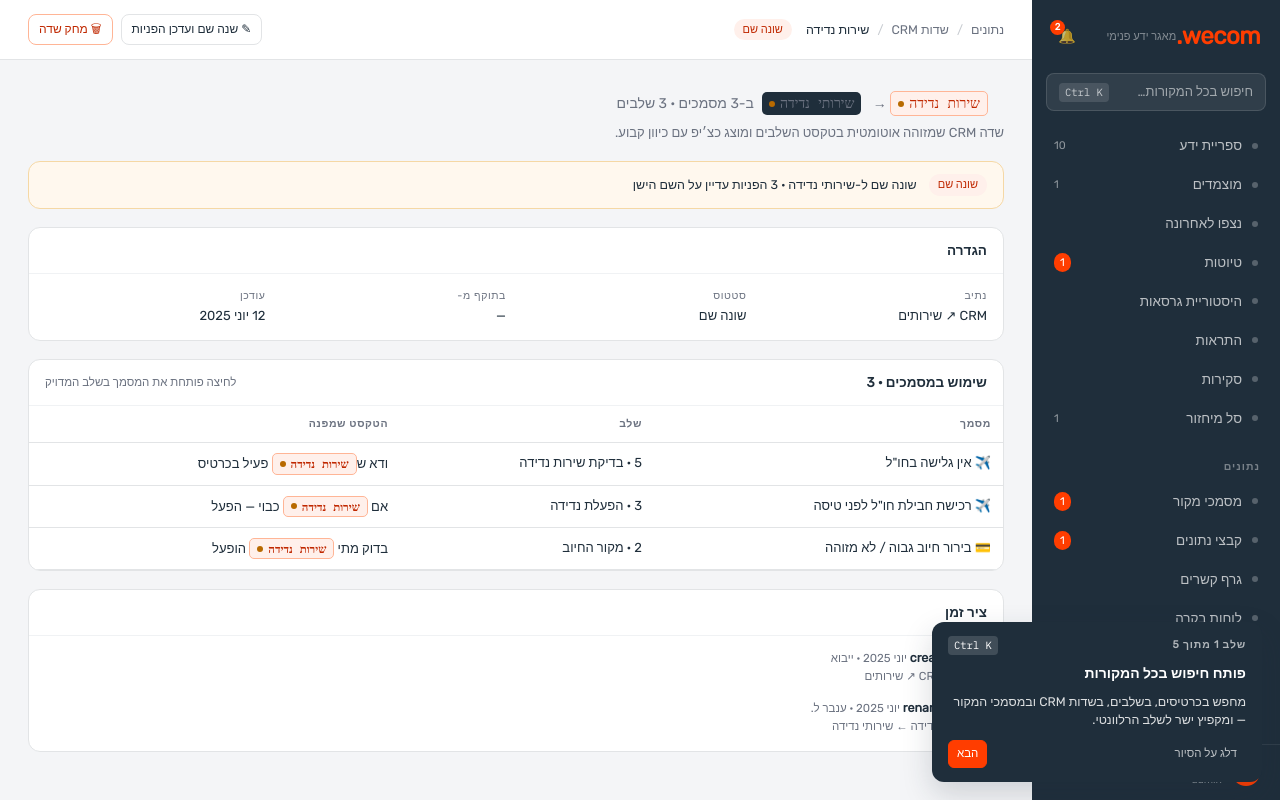
it: <FieldPage> › refuses a rename that does not actually change the name
Check: the table with test id "field-usage" is shown, box [29, 406, 1003, 570]
Click the button "✎ שנה שם ועדכן הפניות" at coordinates (191, 30), box [121, 14, 262, 45]
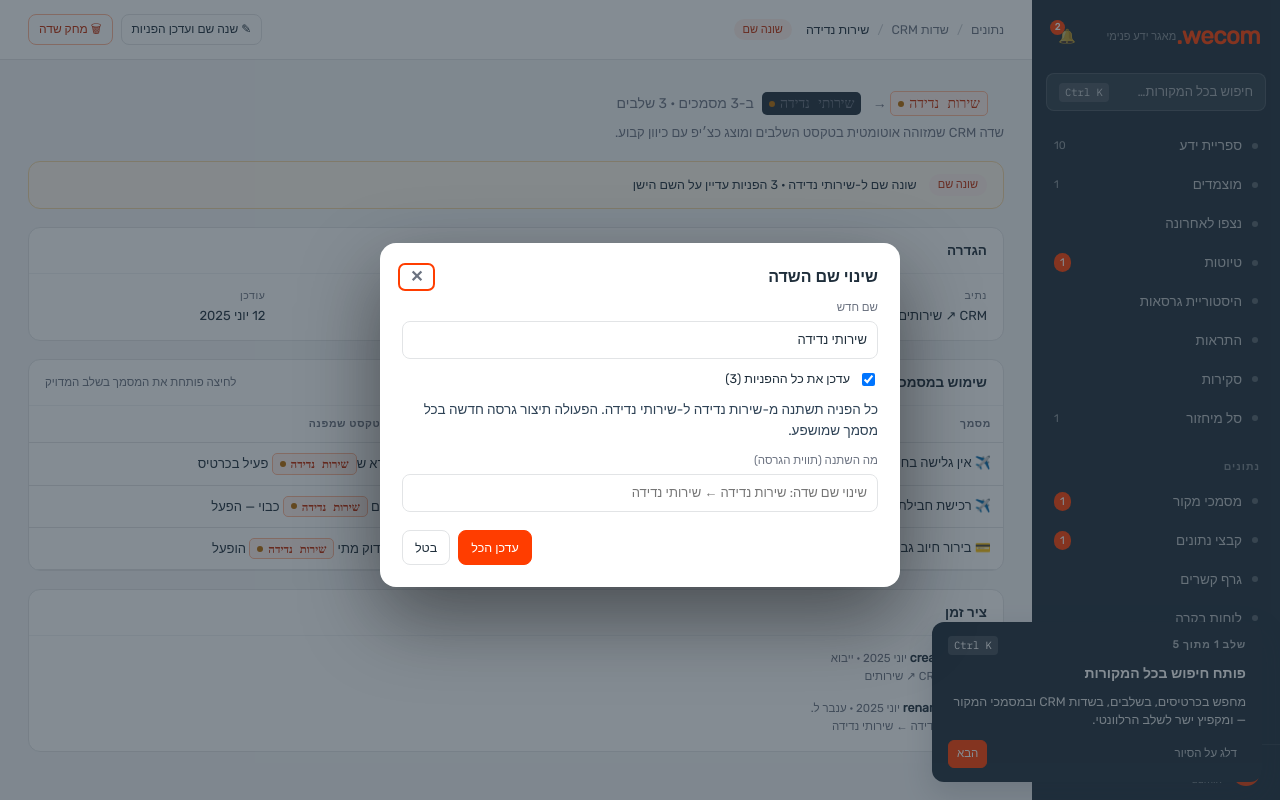
Replace the text in the field labelled "שם חדש" with "שירות נדידה" at coordinates (640, 340), box [402, 321, 878, 359]
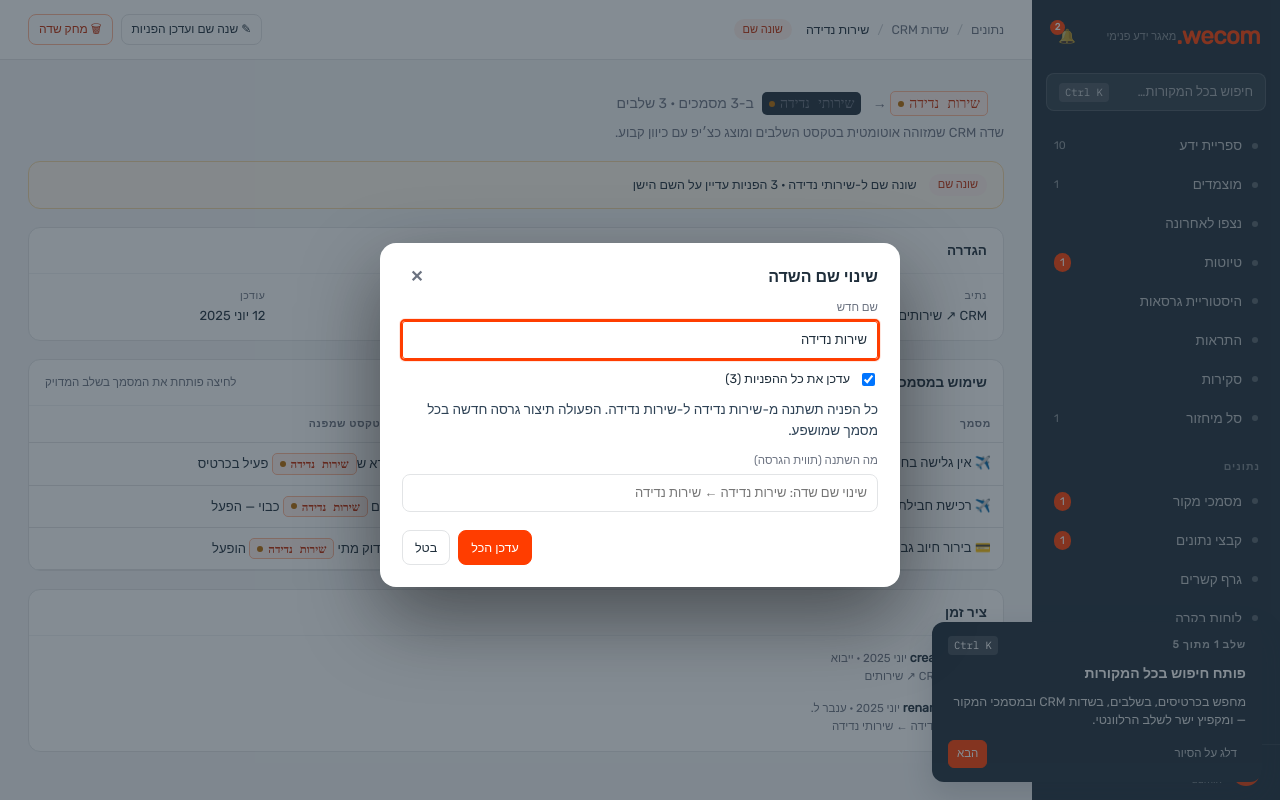
Click the button "עדכן הכל" at coordinates (495, 548), box [458, 530, 532, 565]
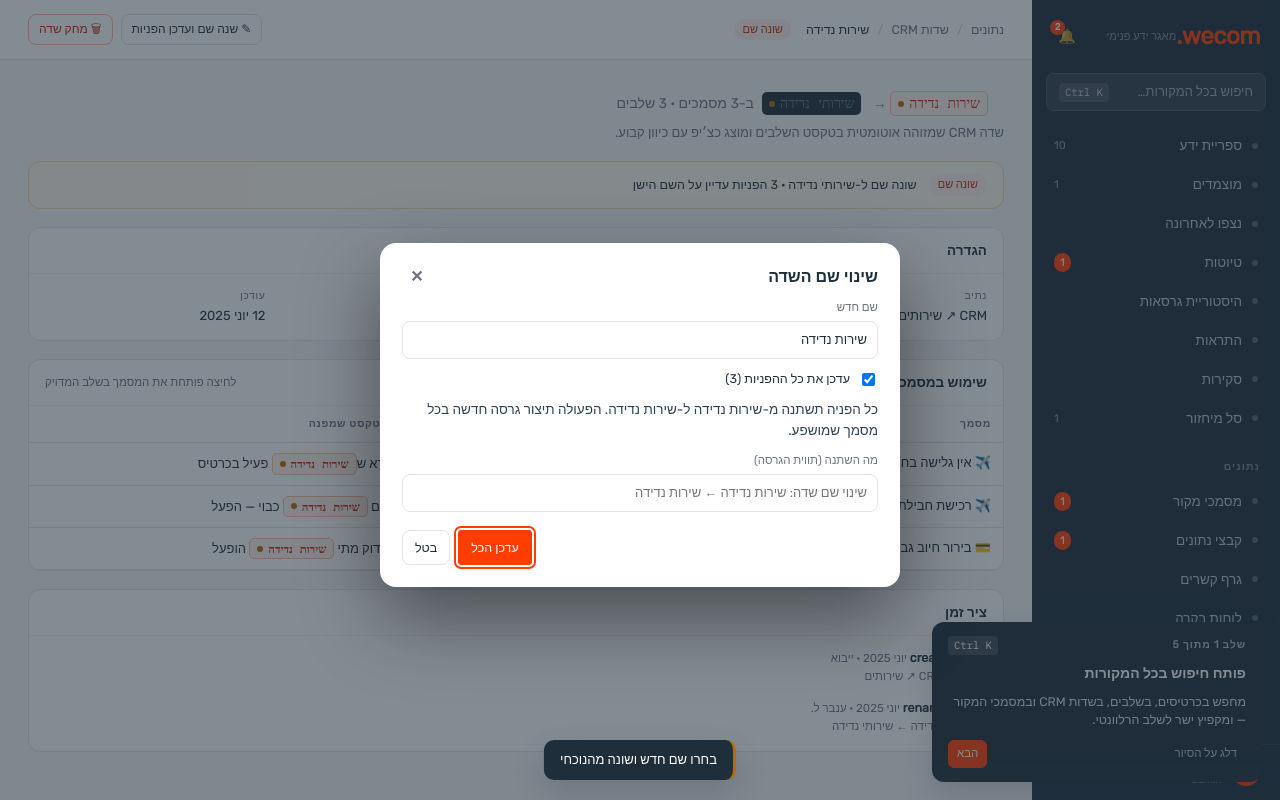
Check: the dialog "שינוי שם השדה" is shown, box [380, 243, 900, 587]
Check: the text "בחרו שם חדש ושונה מהנוכחי" is shown, box [560, 750, 717, 770]
